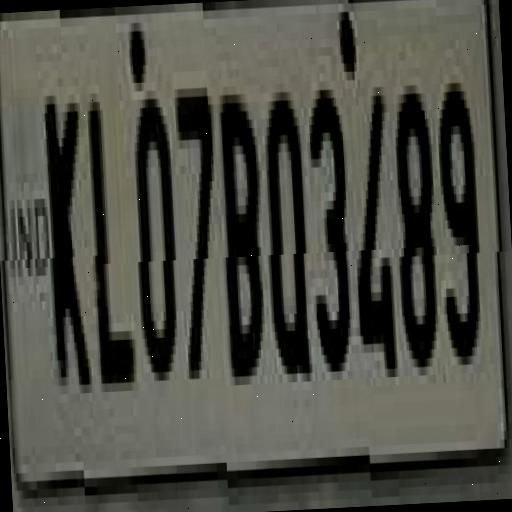number plate: (0, 0, 503, 491)
